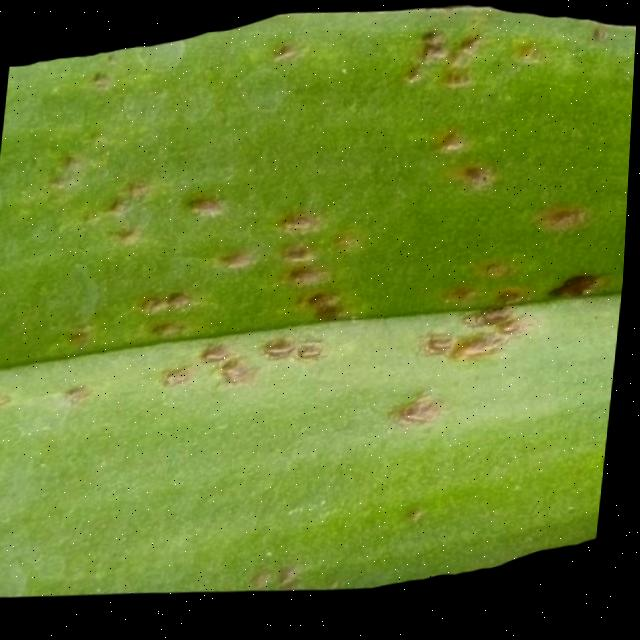mite: (65, 29, 630, 352), (265, 210, 362, 328), (401, 31, 486, 96), (262, 338, 330, 368), (306, 294, 350, 326), (507, 42, 547, 72), (429, 132, 471, 160), (460, 169, 499, 198), (416, 33, 448, 68), (445, 289, 481, 310), (588, 32, 612, 52)
spots: (0, 8, 638, 597)
